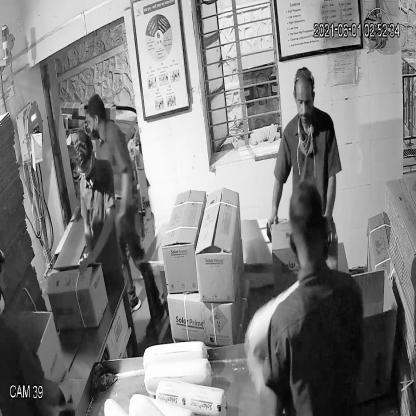goggles: (74, 158, 96, 179)
no_goggles: (289, 89, 318, 111)
